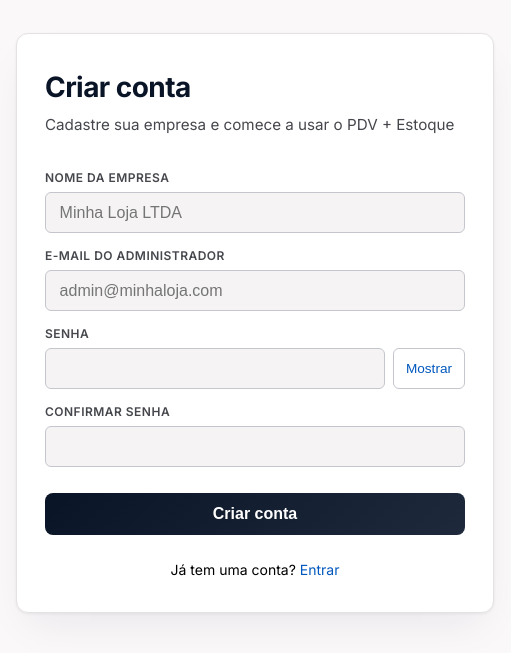
Test: RegisterTenantPage › exibe erro quando a senha é muito curta
In the field labelled "Nome da empresa": (255, 213) [45,192,465,233], type "Loja Teste"
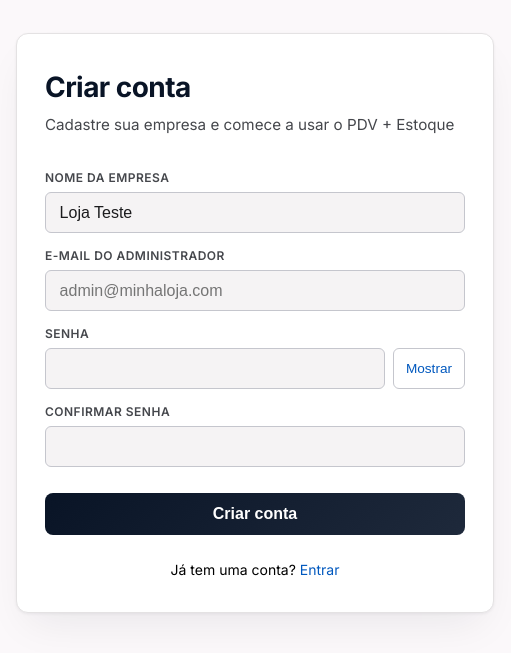
In the field labelled "E-mail do administrador": (255, 291) [45,270,465,311], type "admin@loja.com"
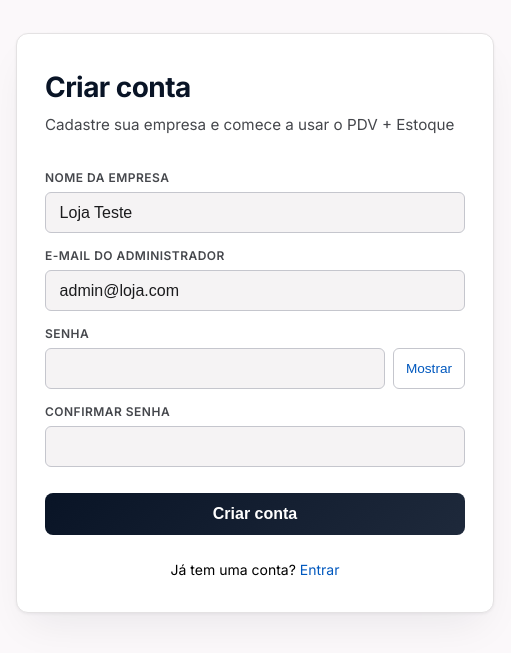
In the password field labelled "Senha": (215, 369) [45,348,385,389], type "123"
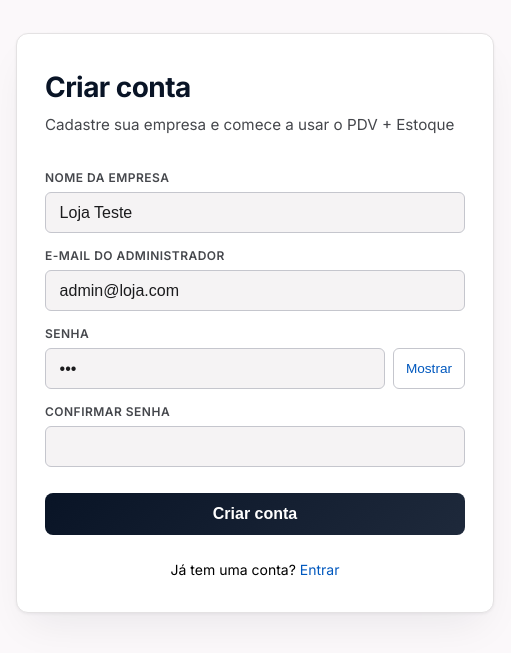
In the password field labelled "Confirmar senha": (255, 447) [45,426,465,467], type "123"
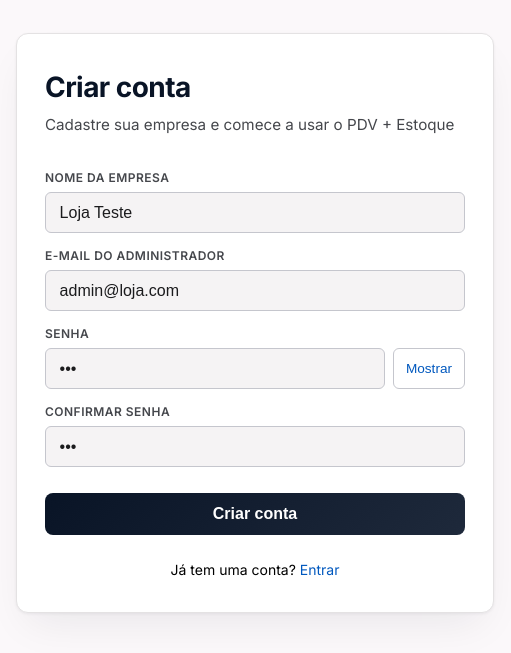
Click the button "Criar conta": click(255, 514) [45,493,465,535]
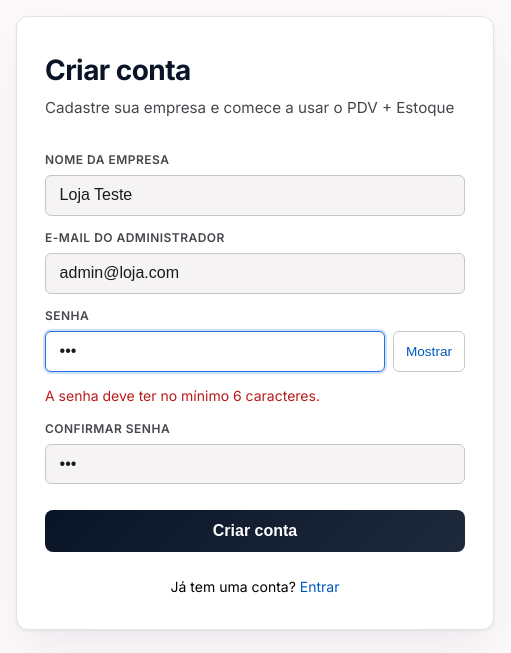
Now the text "A senha deve ter no mínimo 6 caracteres." is shown, box [45,387,320,404]
